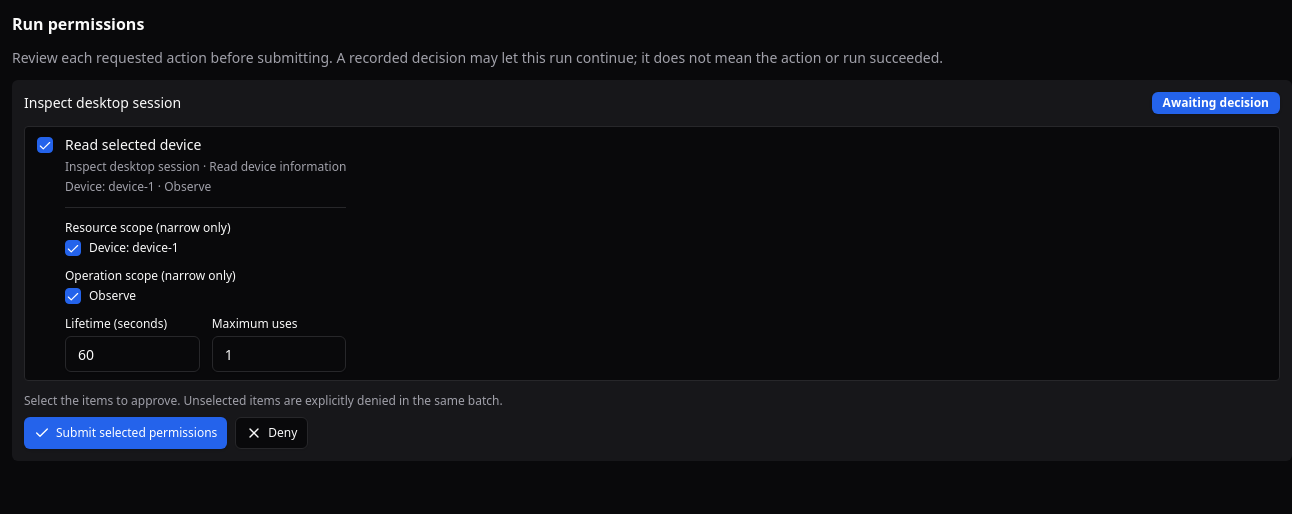
Test case: scheduled run permission submission › binds a reviewed decision to the original session and selected run then reloads
The width and height of the screenshot is (1292, 514).
Click the button "Submit selected permissions" at (126, 433), box [24,417,227,449]
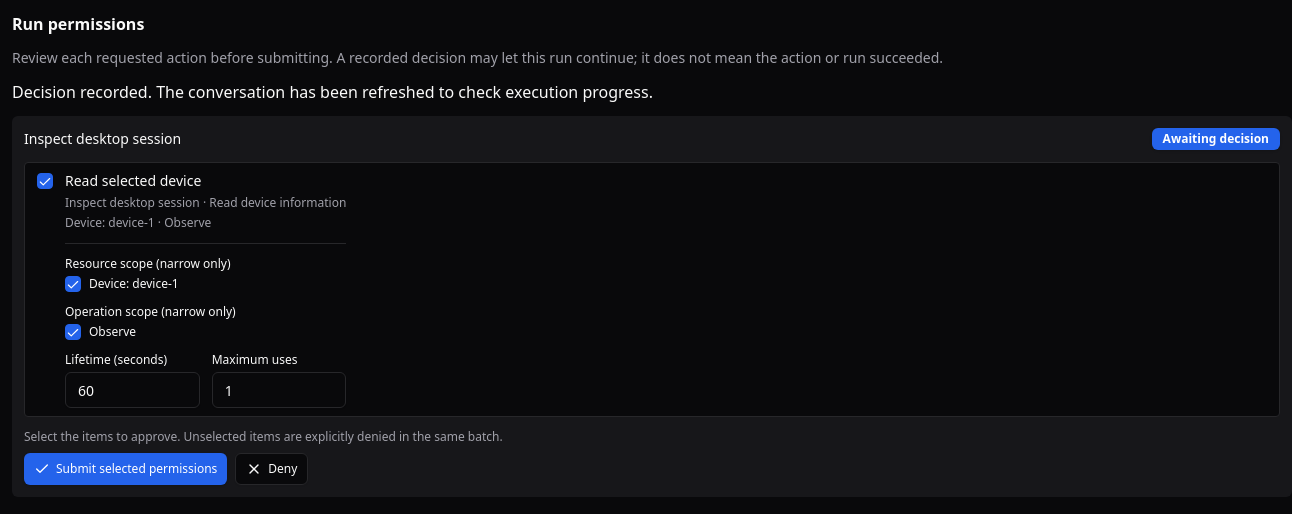
Expected: the text "Decision recorded. The conversation has been refreshed to check execution progress." is shown, [12,81,653,103]
